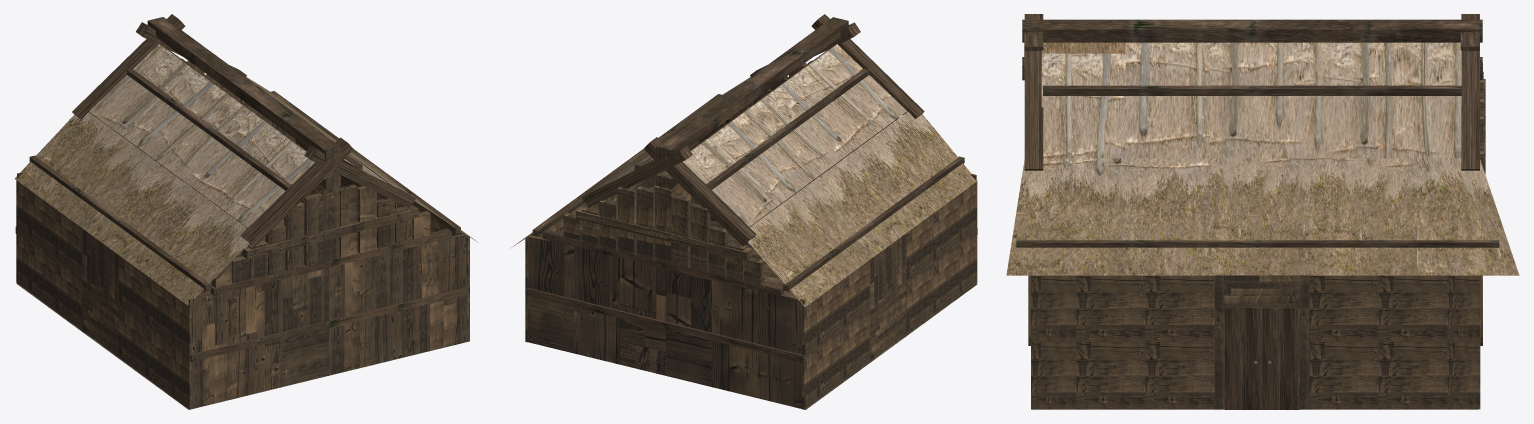
File: depo.fbx
3 renders of one model, left to right at view 1: azimuth 30°, elevation 25°; view 2: azimuth 150°, elevation 25°; view 3: azimuth 270°, elevation 25°, orthographic. The views are drawn at different scales.
Parts seen in each view (by area): view 1: Cube.007; view 2: Cube.007; view 3: Cube.007.
Part boxes in pixels (x1,y1,x2,y2): Cube.007: (14,14,476,409); Cube.007: (510,14,977,409); Cube.007: (1006,14,1519,409).
Size of the model in its own units: 8962 by 6955 by 10813.
Materials: 5 (4 with a texture image).
